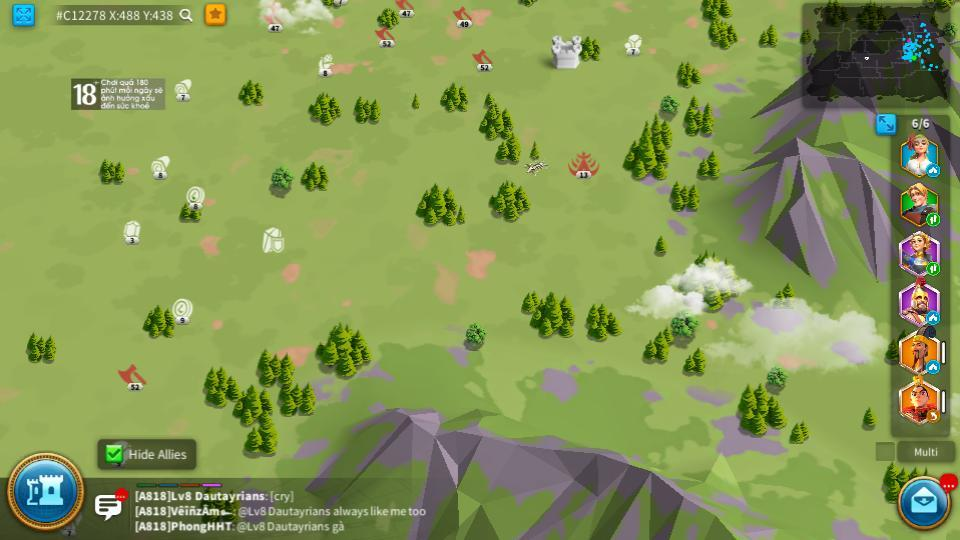gem-z-out: (120, 219, 143, 242)
march_idle: (927, 312, 940, 324), (927, 164, 941, 175), (927, 362, 940, 373)
march_marching: (925, 263, 938, 275), (927, 216, 940, 227)
march_returning: (926, 411, 940, 422)
